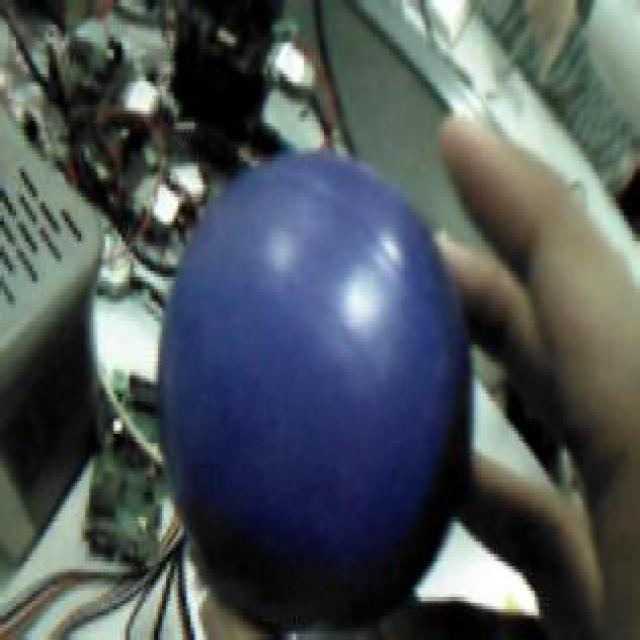BallPurple: (158, 152, 474, 626)
